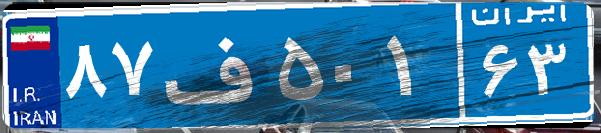0: (330, 28, 385, 110)
1: (385, 28, 445, 110)
3: (525, 38, 570, 115)
5: (273, 28, 330, 110)
6: (475, 38, 525, 113)
7: (110, 28, 158, 105)
8: (57, 26, 110, 107)
ف: (158, 15, 273, 115)
